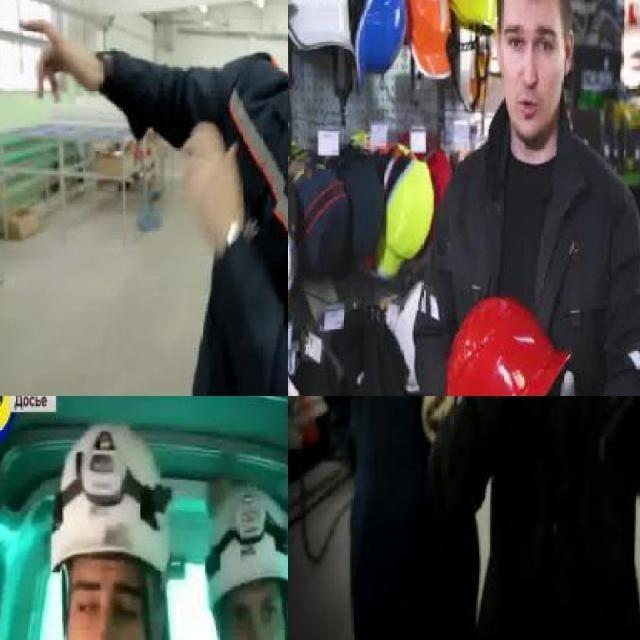apron: (507, 369, 581, 396)
